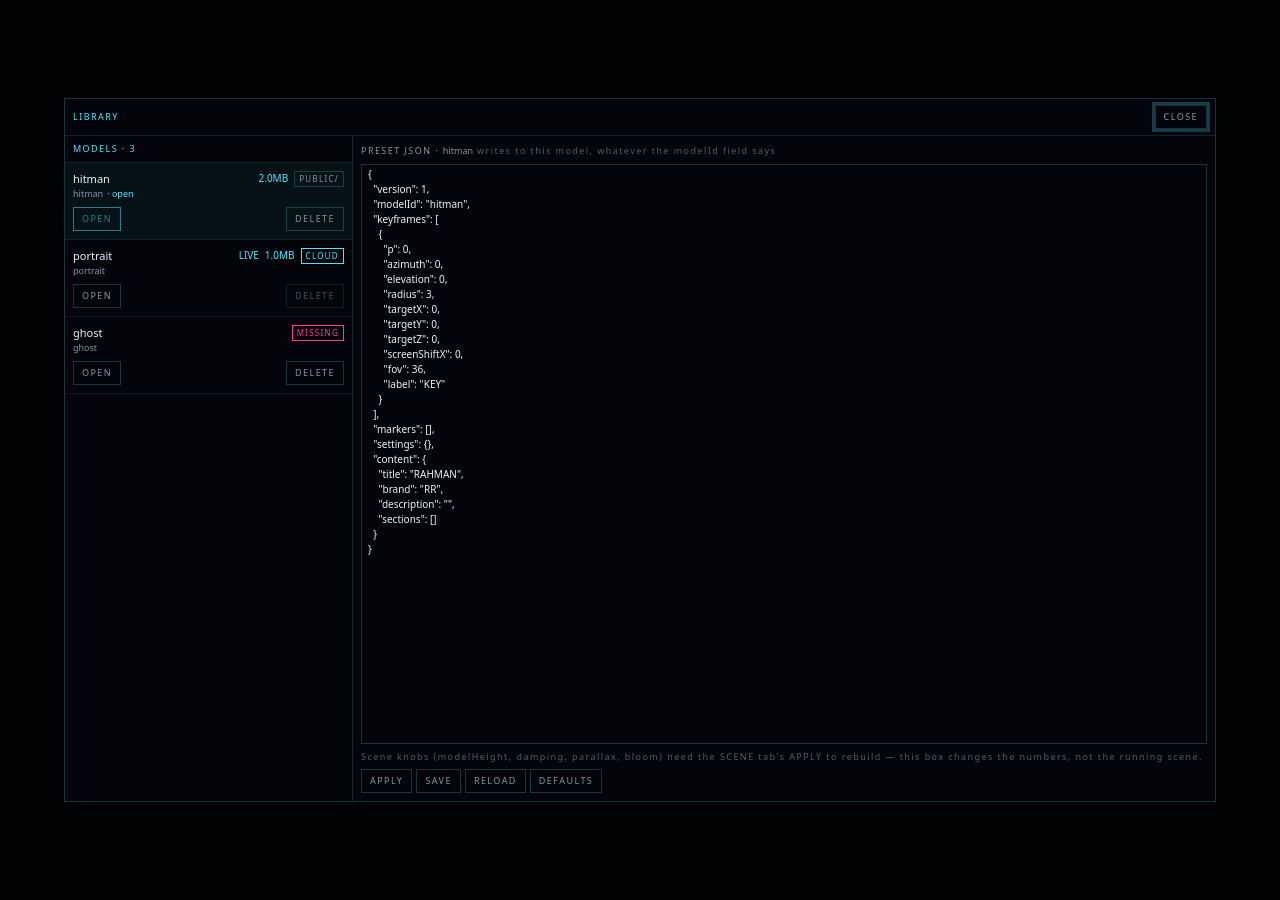
Test: StudioLibrary › warns that deleting a scanned row only lasts until the next SYNC
Click the button "DELETE" below "· OPEN" at (315, 218), box [286,206,344,230]
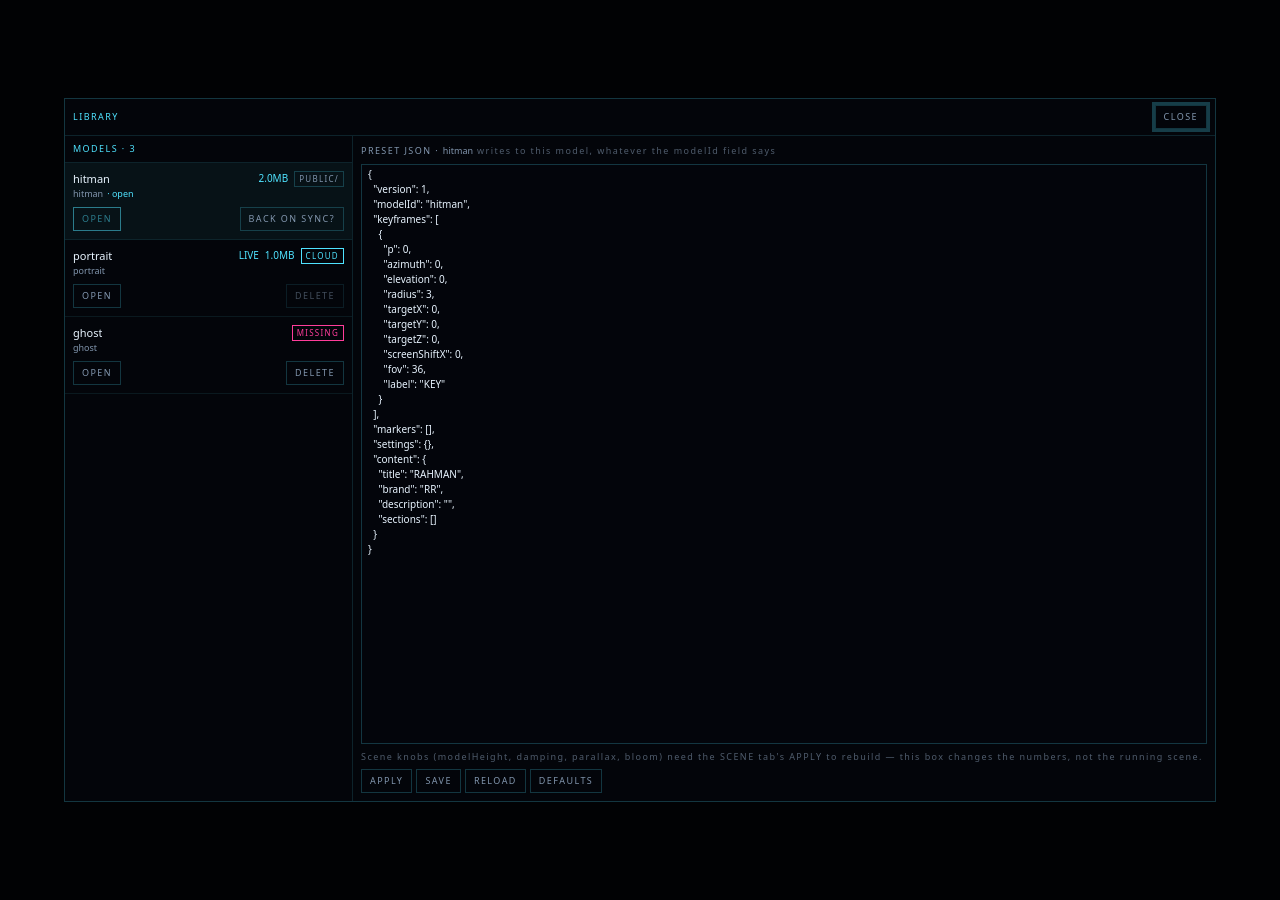
Check: the button "BACK ON SYNC?" is shown, box [240,206,344,230]
